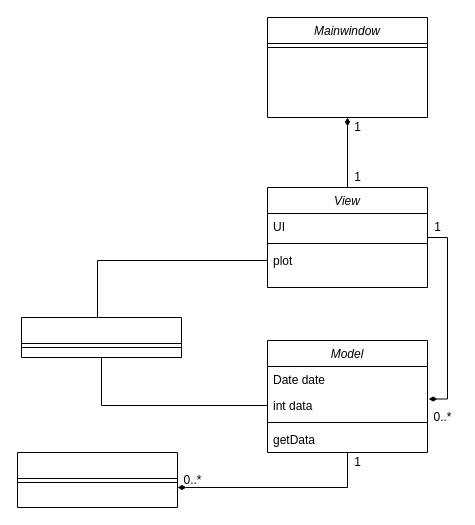
This 475x525 diagram has some shape labels left out. The shapes that lost their labels are listed below. From the top down, each one's centre as x and y in pixels, then its label:
At (101,337): "Delegate".
At (97,480): "Data".
